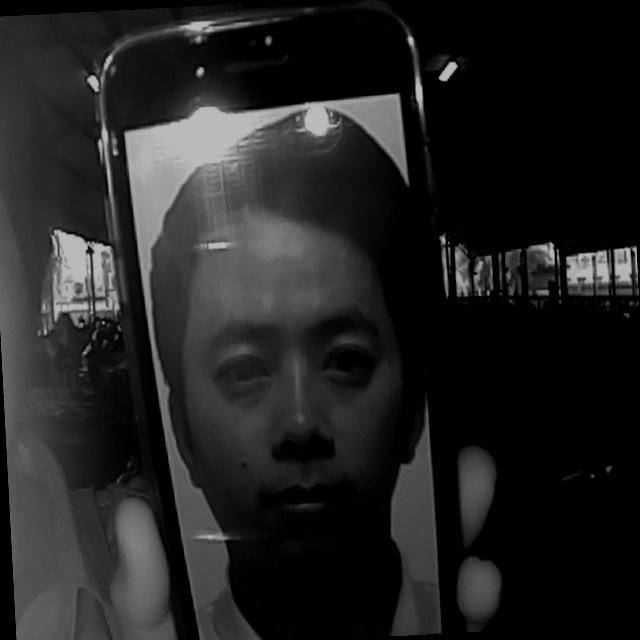fake: (95, 0, 458, 640)
